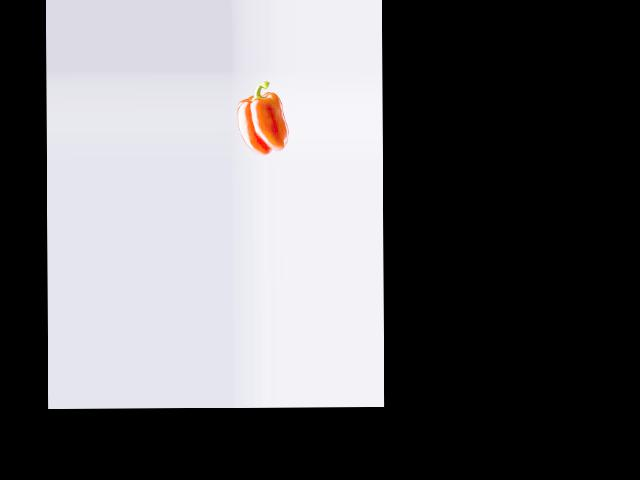bell_pepper: (234, 80, 289, 153)
